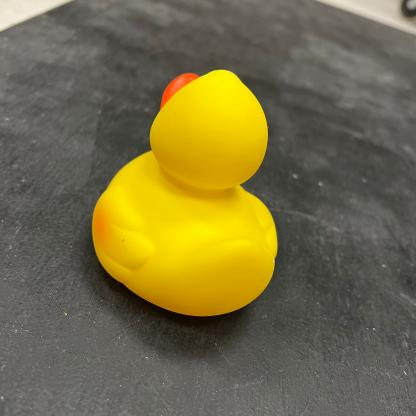duck: (90, 67, 280, 320)
